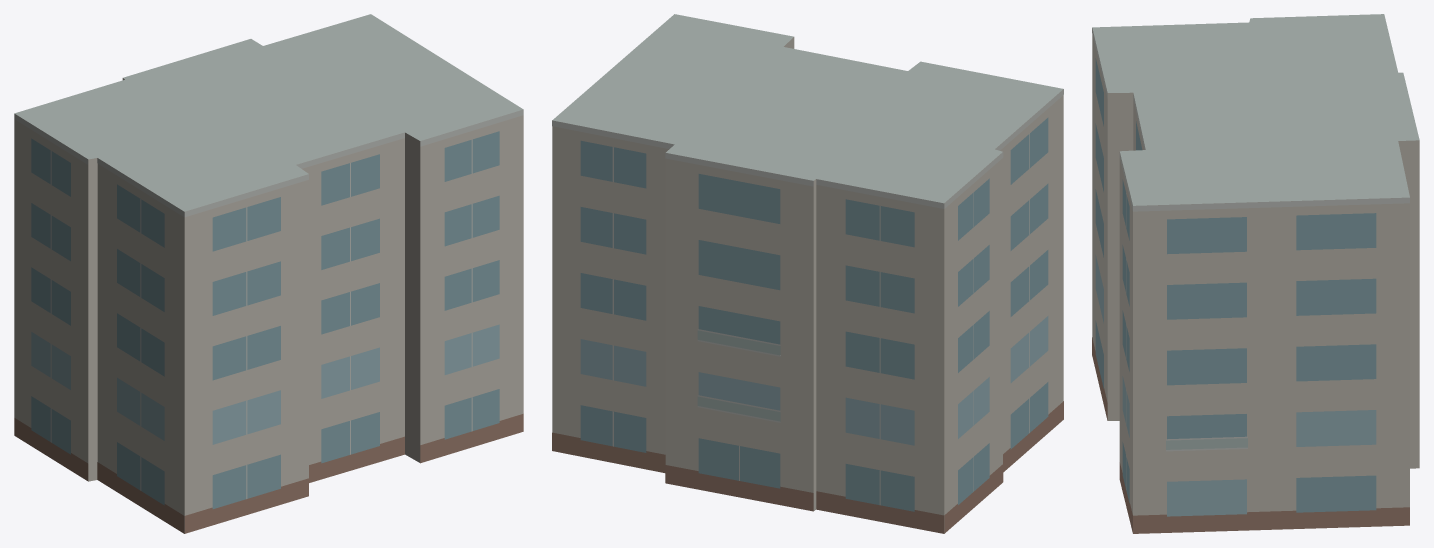
The model's file is survey-upis-32634570.glb.
3 views of the same model, side by side, from view 1: azimuth 30°, elevation 25°; view 2: azimuth 150°, elevation 25°; view 3: azimuth 270°, elevation 25° (orthographic). The views are drawn at different scales.
Visible parts, largest first — view 1: survey-upis-32634570.tmp; view 2: survey-upis-32634570.tmp; view 3: survey-upis-32634570.tmp.
Part boxes in pixels (left/top/right/bottom): survey-upis-32634570.tmp: left=14, top=14, right=523, bottom=533; survey-upis-32634570.tmp: left=552, top=14, right=1063, bottom=533; survey-upis-32634570.tmp: left=1092, top=14, right=1419, bottom=533.
Size of the model in its own units: 17.45 by 13.9 by 12.59.
